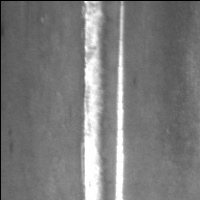scratches: (79, 1, 107, 200), (111, 1, 128, 200)
